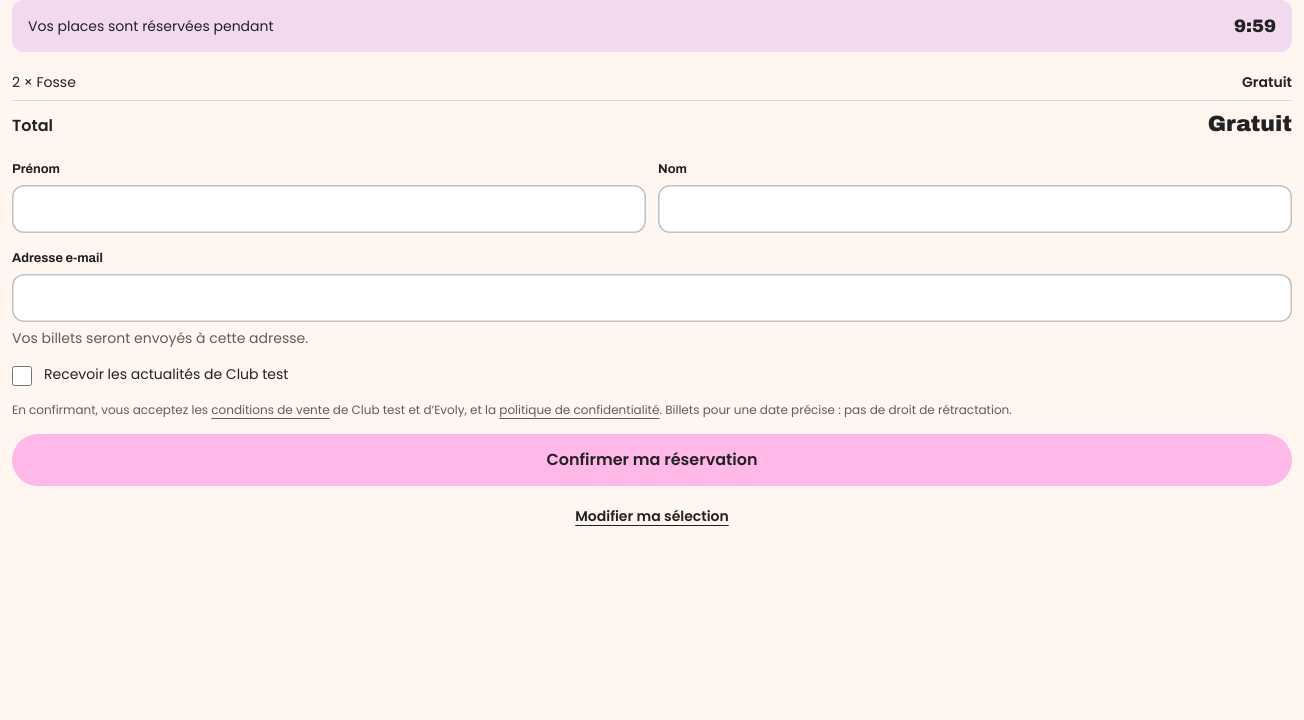
panier : questions, titulaires, adresse, options › faute de frappe dans l'adresse : suggestion proposée, appliquée d'un clic
Type "Léa" into the field labelled "Prénom". click: (329, 209)
box: [12,185,646,233]
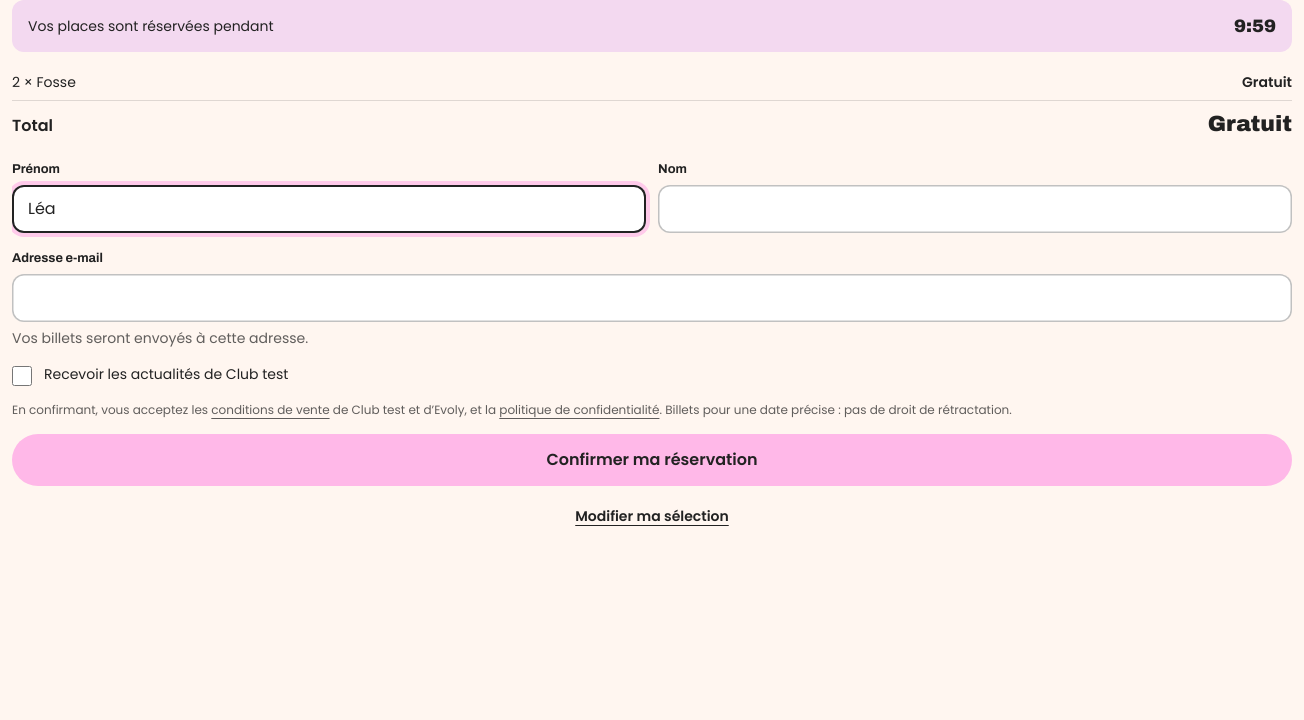
Type "Martin" into the field labelled "Nom". click: (975, 209)
box: [658,185,1292,233]
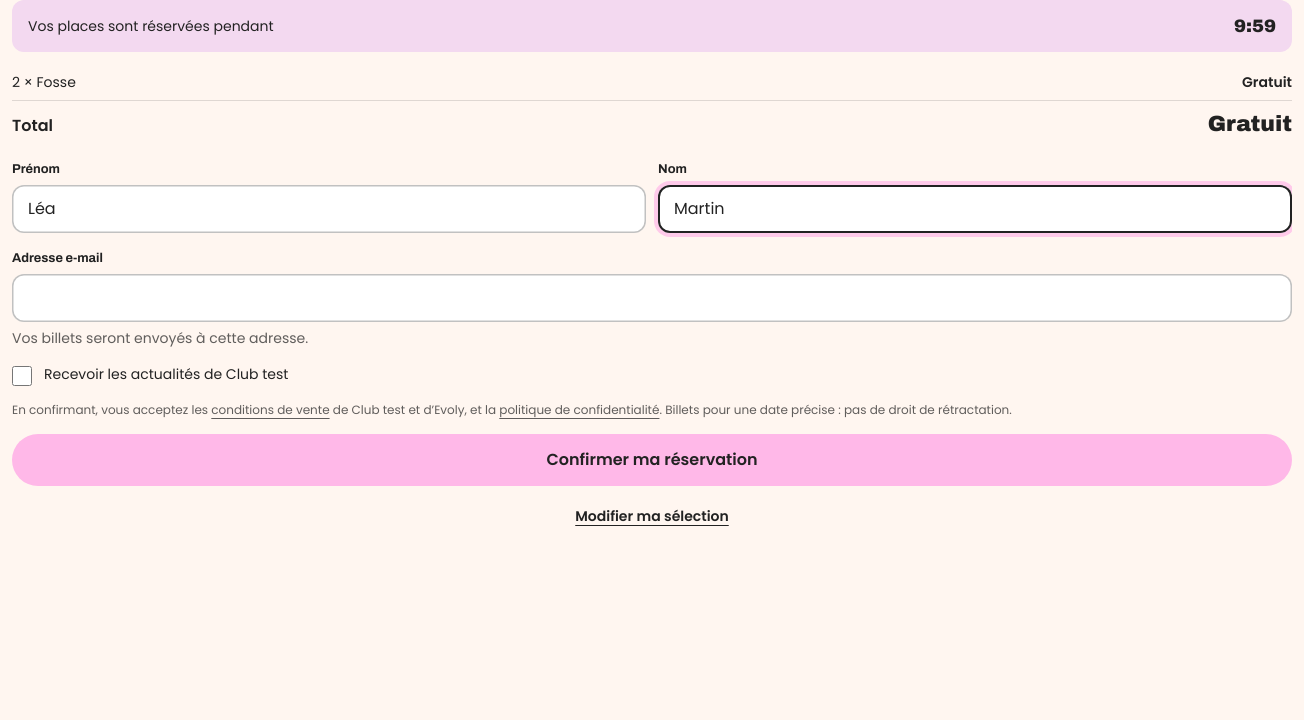
Type "lea@gmial.com" into the field labelled "Adresse e-mail". click: (652, 298)
box: [12,274,1292,322]
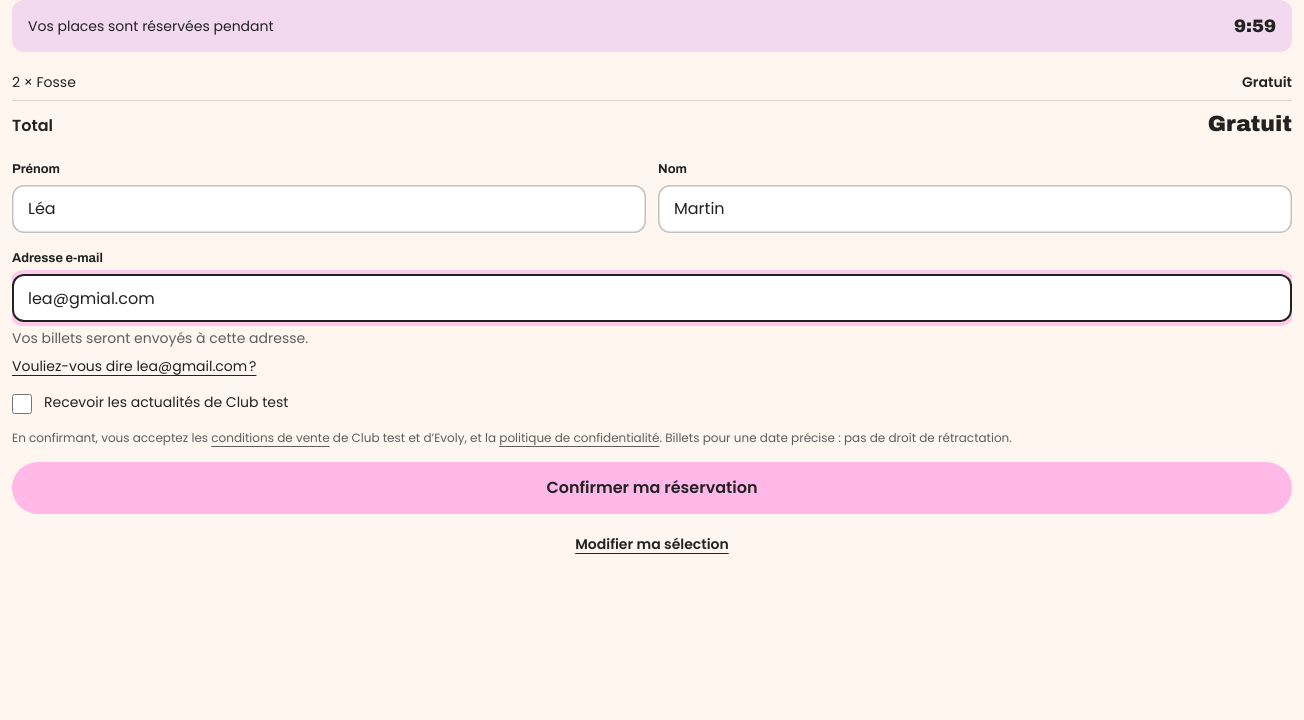
Press Tab
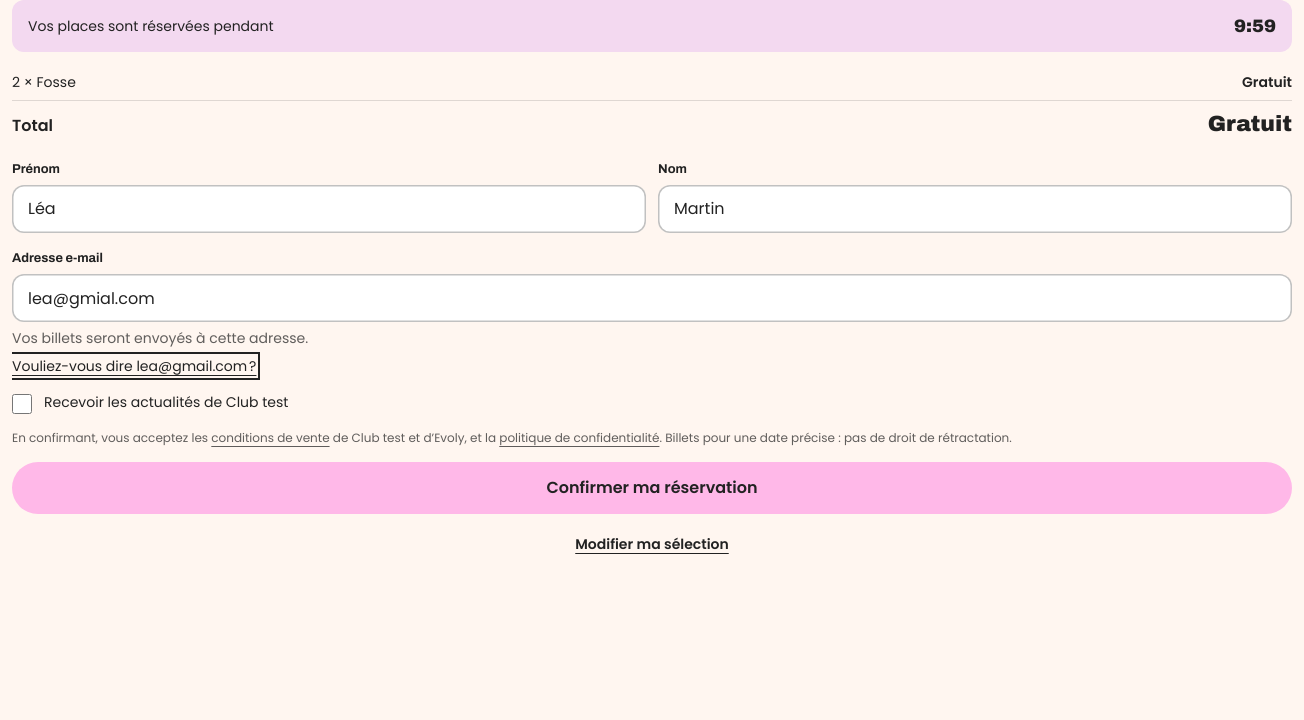
Click the button "Vouliez-vous dire lea@gmail.com ?". click: (134, 366)
box: [12,356,256,376]
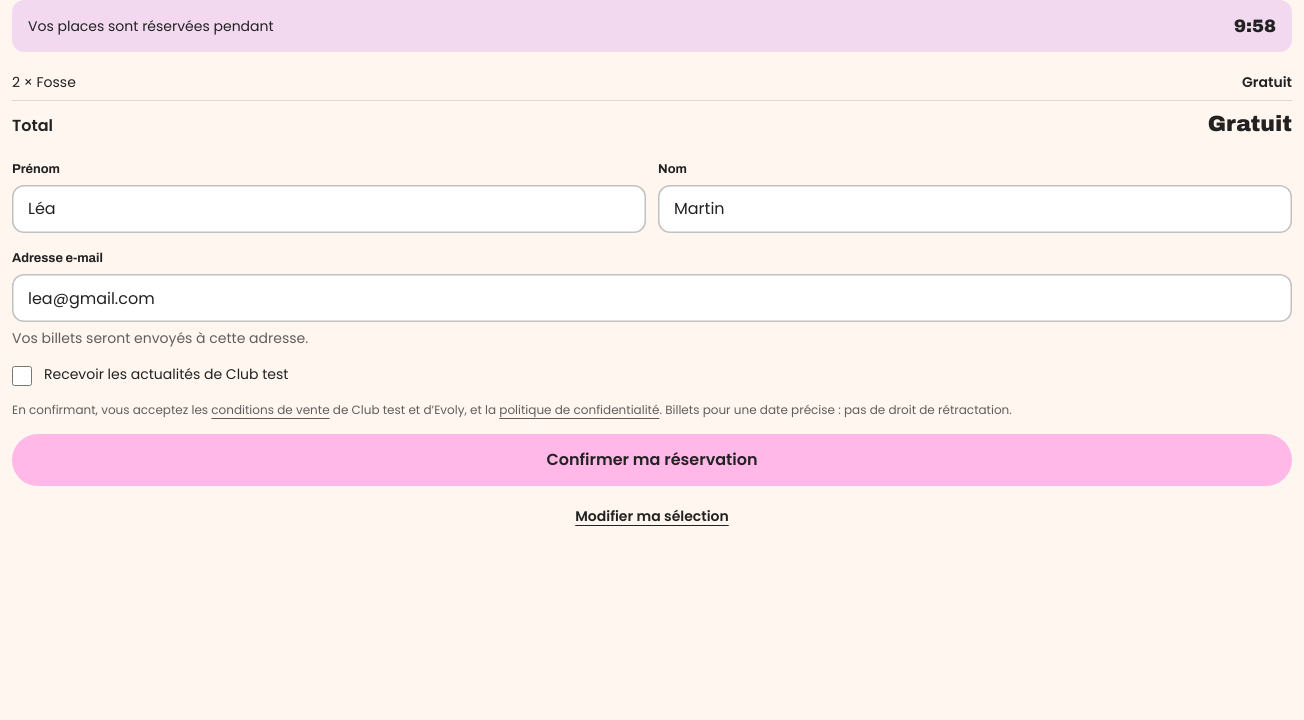
Expected: the field labelled "Adresse e-mail" holds "lea@gmail.com", [12,274,1292,322]
